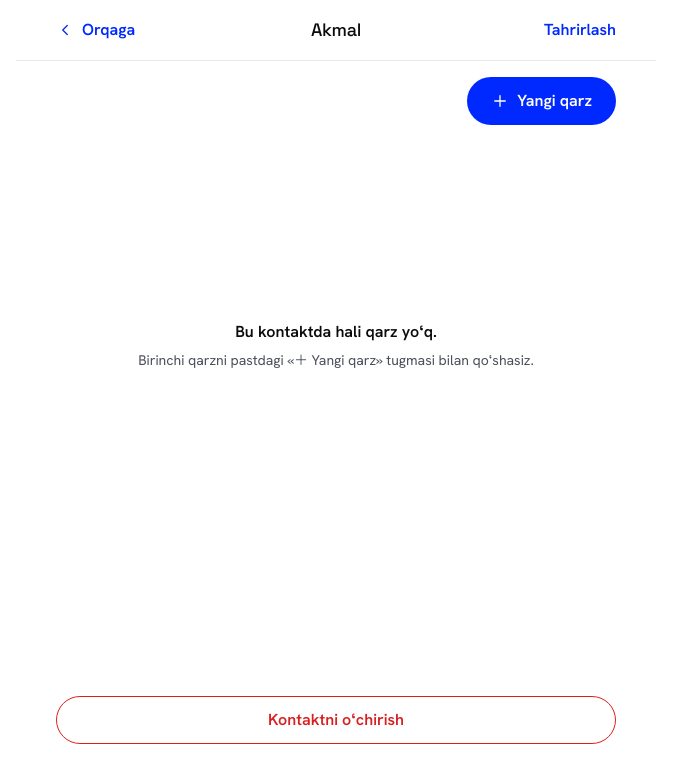
Test case: kontaktni tahrirlash (0060; mezon 23, 24, 25, 26) › mezon 25 — ism boʻsh boʻlsa «Ism kiriting.» chiqadi va blok yopilmaydi
Click the button "Tahrirlash" at (580, 30), box top-left (544, 8), bottom-right (616, 52)
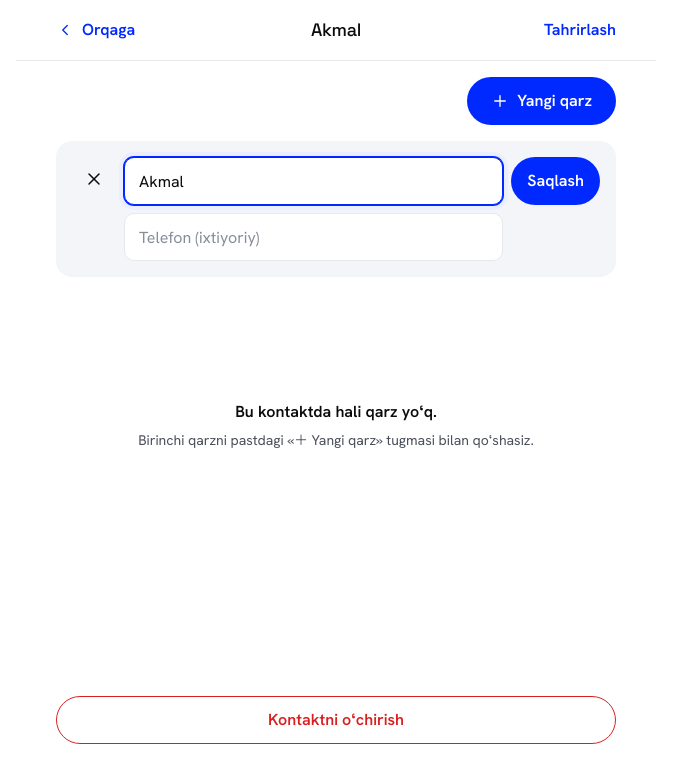
Clear the field named "Ism" at (314, 181), box top-left (124, 157), bottom-right (503, 205)
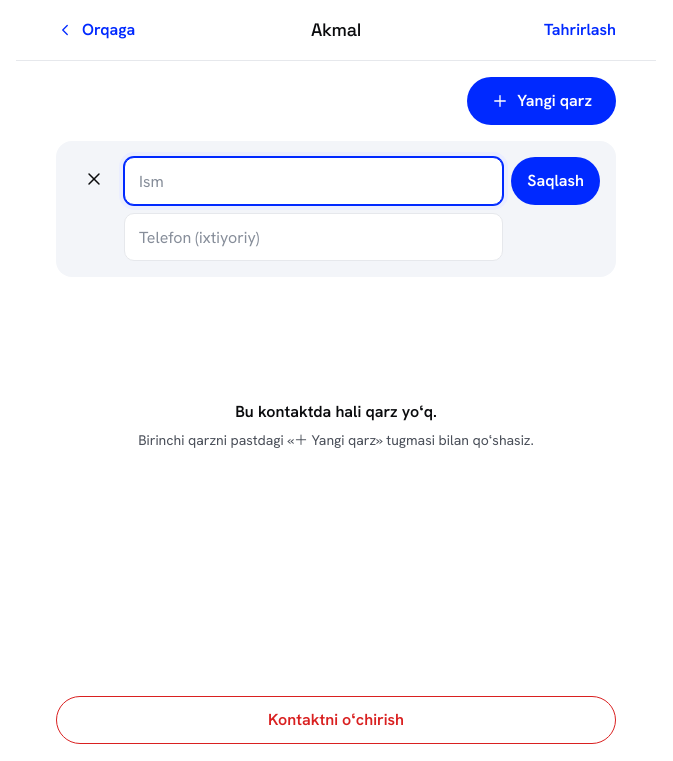
Click the button "Saqlash" at (556, 181), box top-left (511, 157), bottom-right (600, 205)
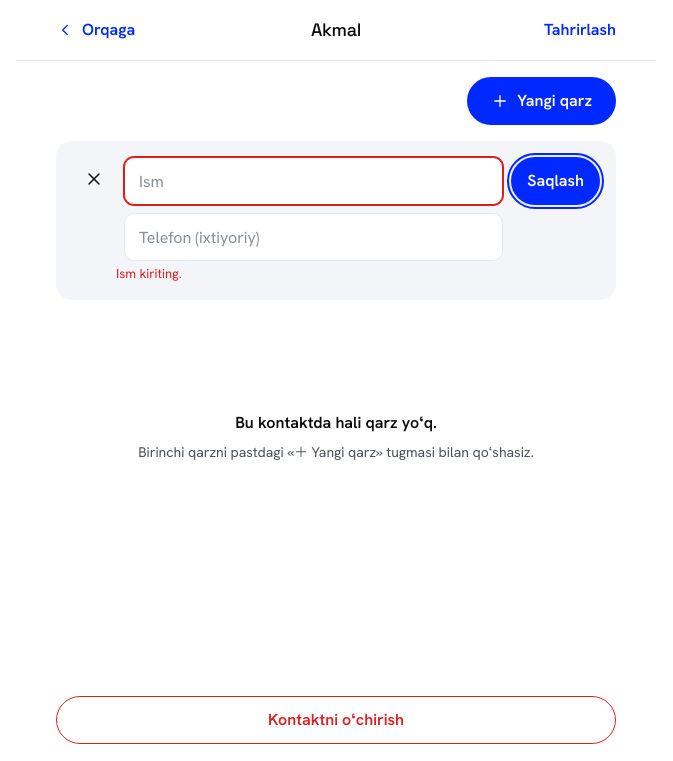
Expected: the heading "Akmal" is shown, top-left (311, 19), bottom-right (361, 41)
Expected: the text "Ism kiriting." is shown, top-left (116, 265), bottom-right (182, 282)
